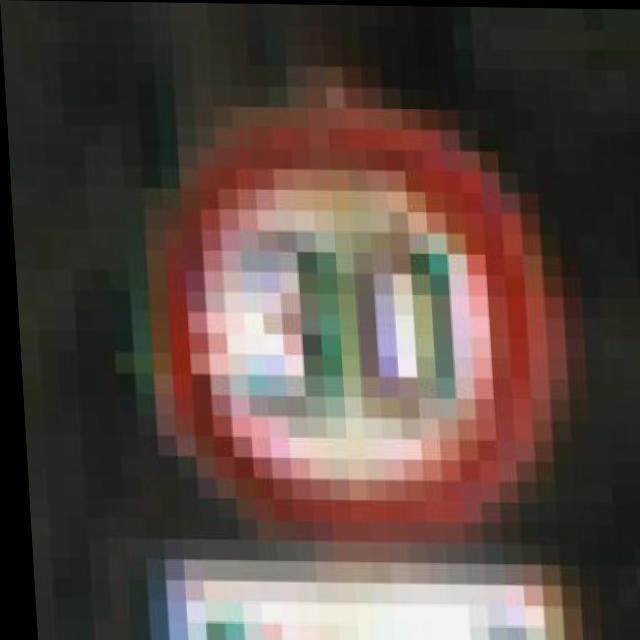Speed limit 30: (139, 89, 566, 546)
